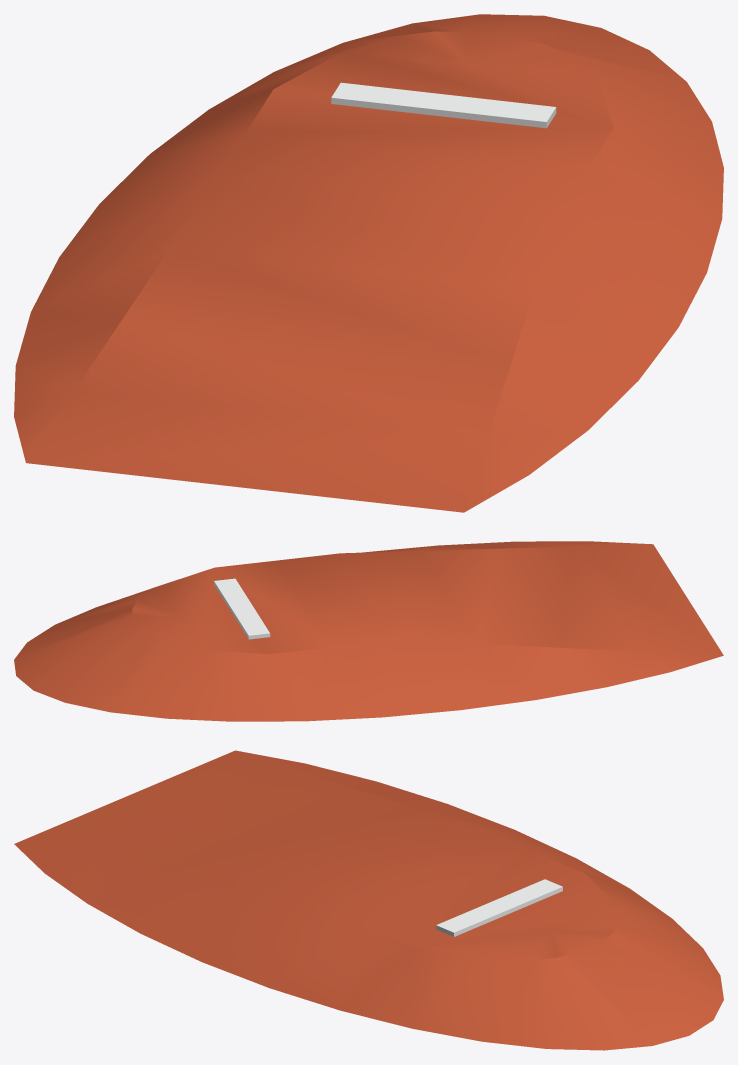
The model's file is 3a2bfb14-984f-499a-ab3e-5585554c4fd1.glb.
3 renders of one model, top to bottom at view 1: azimuth 30°, elevation 25°; view 2: azimuth 150°, elevation 25°; view 3: azimuth 270°, elevation 25°, orthographic. The views are drawn at different scales.
Parts seen in each view (by area): view 1: BaseballPitchersMound; view 2: BaseballPitchersMound; view 3: BaseballPitchersMound.
Part boxes in pixels (x1=…): BaseballPitchersMound: x1=14, y1=14, x2=723, y2=512; BaseballPitchersMound: x1=14, y1=541, x2=723, y2=721; BaseballPitchersMound: x1=14, y1=750, x2=723, y2=1050.
Size of what is drawn, in the model's own units: 1.86 by 0.1434 by 1.86.
1 material, 1 textured.
